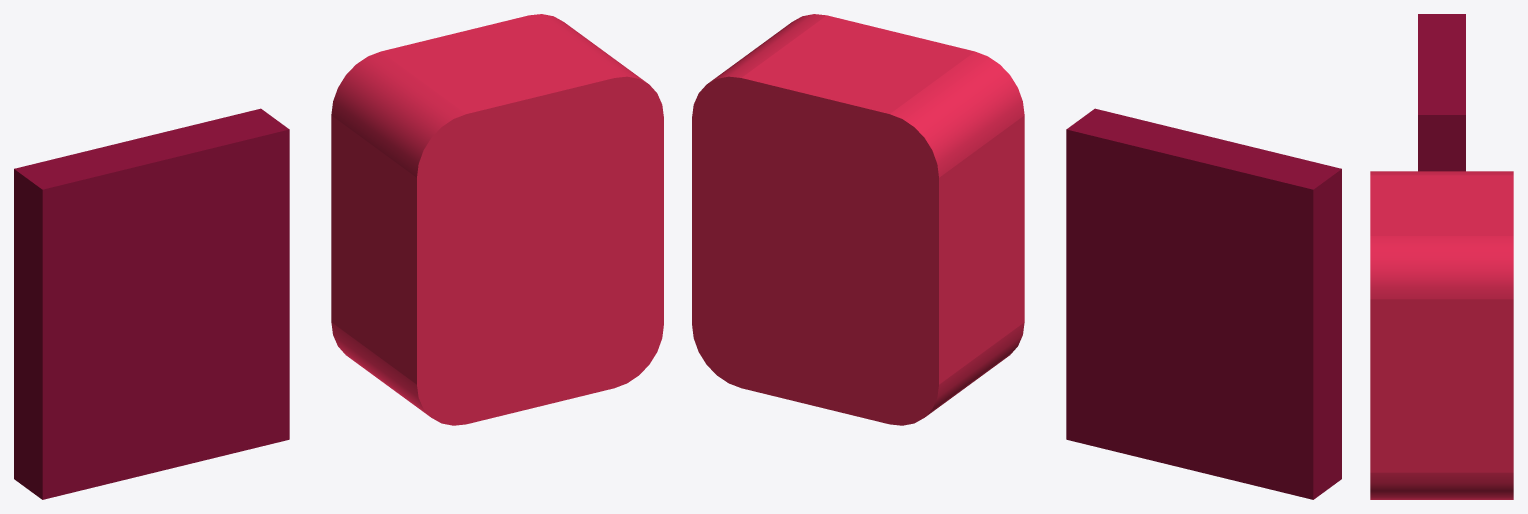
Rendered from twoBoxes.dae.
3 views of the same model, side by side, from view 1: azimuth 30°, elevation 25°; view 2: azimuth 150°, elevation 25°; view 3: azimuth 270°, elevation 25° (orthographic). The views are drawn at different scales.
Visible parts, largest first — view 1: generated; view 2: generated; view 3: generated.
Part boxes in pixels (x1,y1,x2,y2): generated: [14, 14, 663, 499]; generated: [692, 14, 1341, 499]; generated: [1370, 14, 1513, 499].
Size of the model in its own units: 12 by 6 by 3.
Materials: 1 (1 with a texture image).
